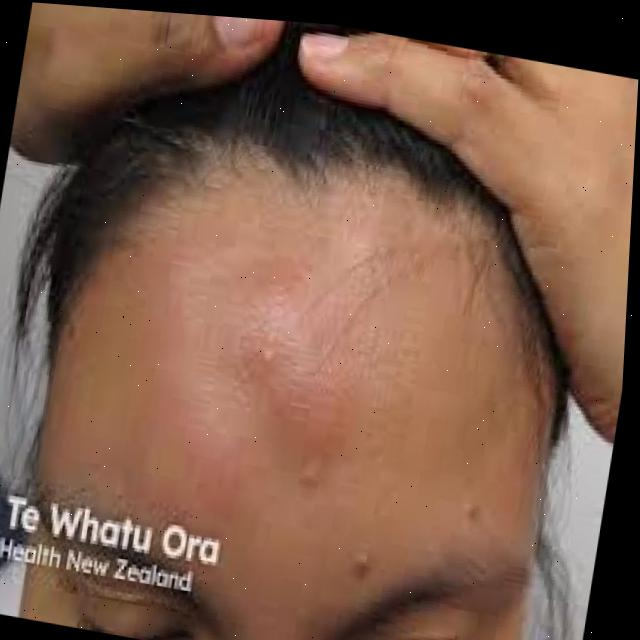Eczema: (161, 208, 370, 499)
